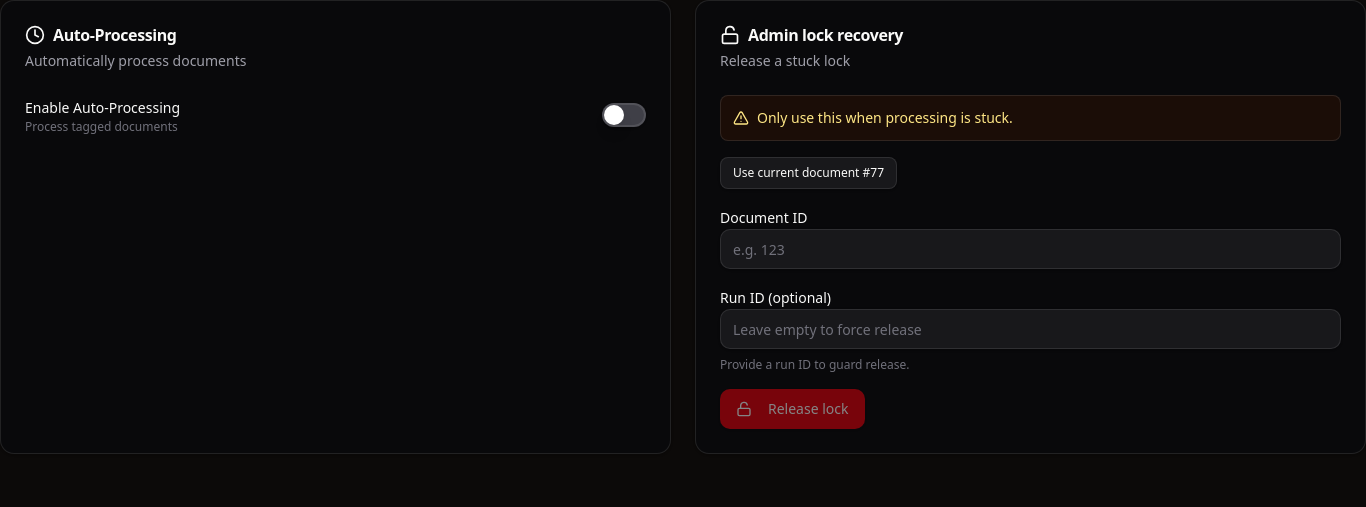
Scenario: ProcessingTab › releases a document lock from the admin recovery card
Expected: the text "Admin lock recovery" is shown, [720,24,903,46]
In the number field labelled "Document ID": (1030, 249) [720,229,1341,269], type "123"
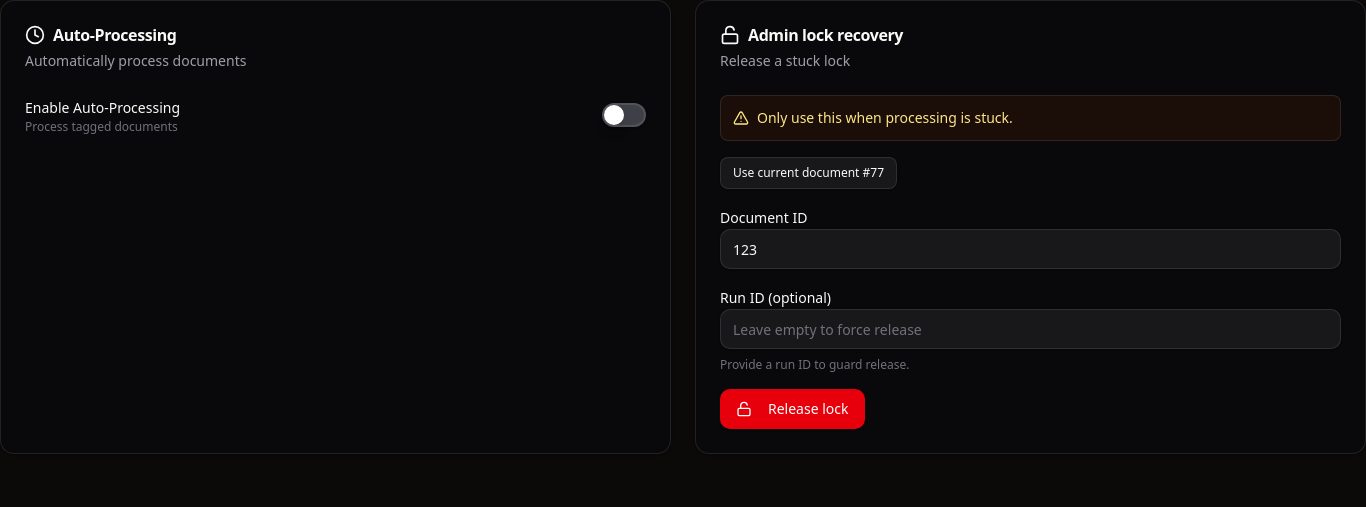
Click the button "Release lock": (792, 409) [720,389,864,429]
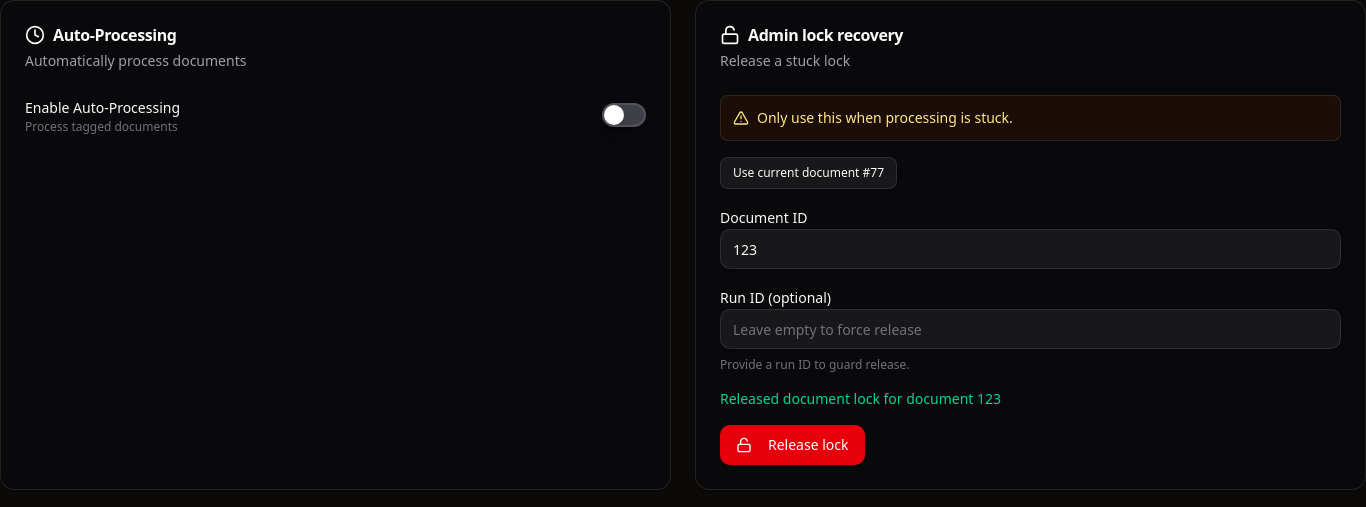
Now the text "Released document lock for document 123" is shown, box [720,389,1001,408]
